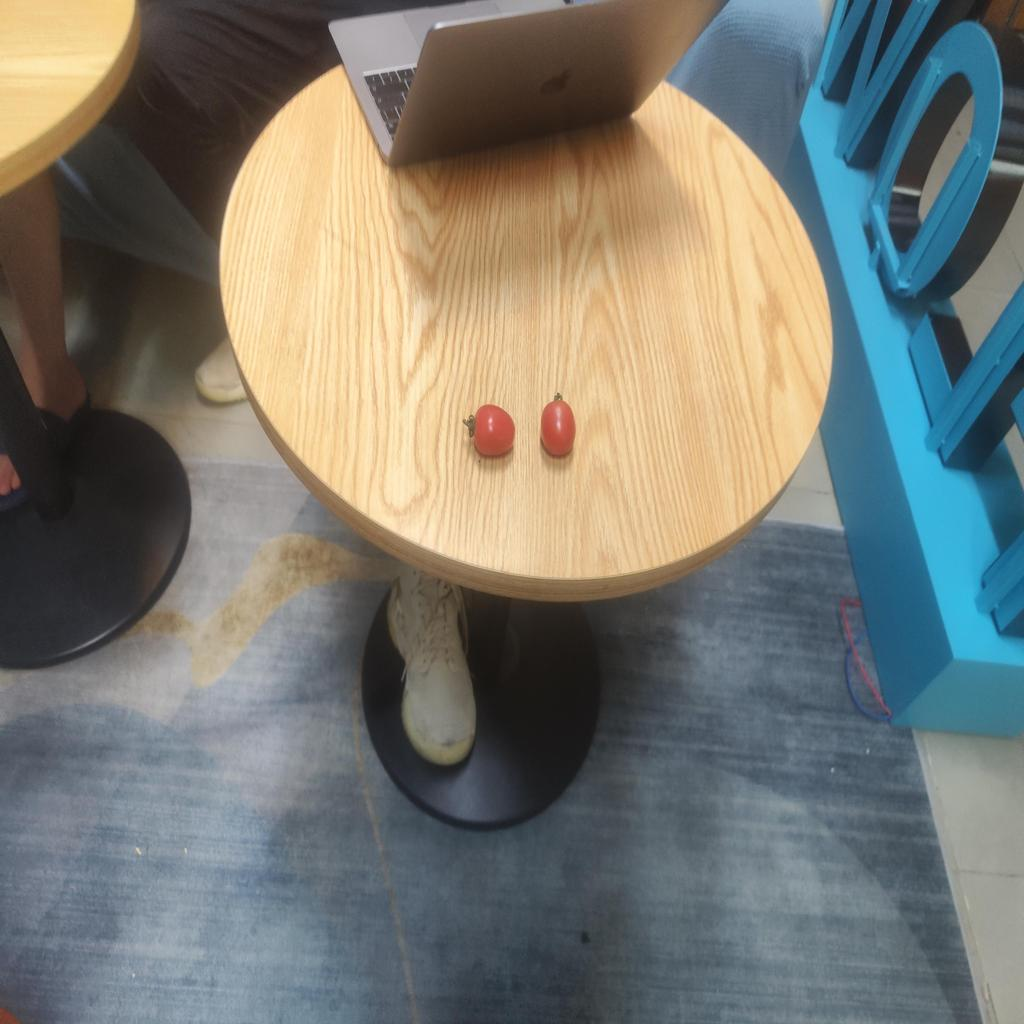tomato: (465, 403, 518, 459), (538, 400, 577, 460)
